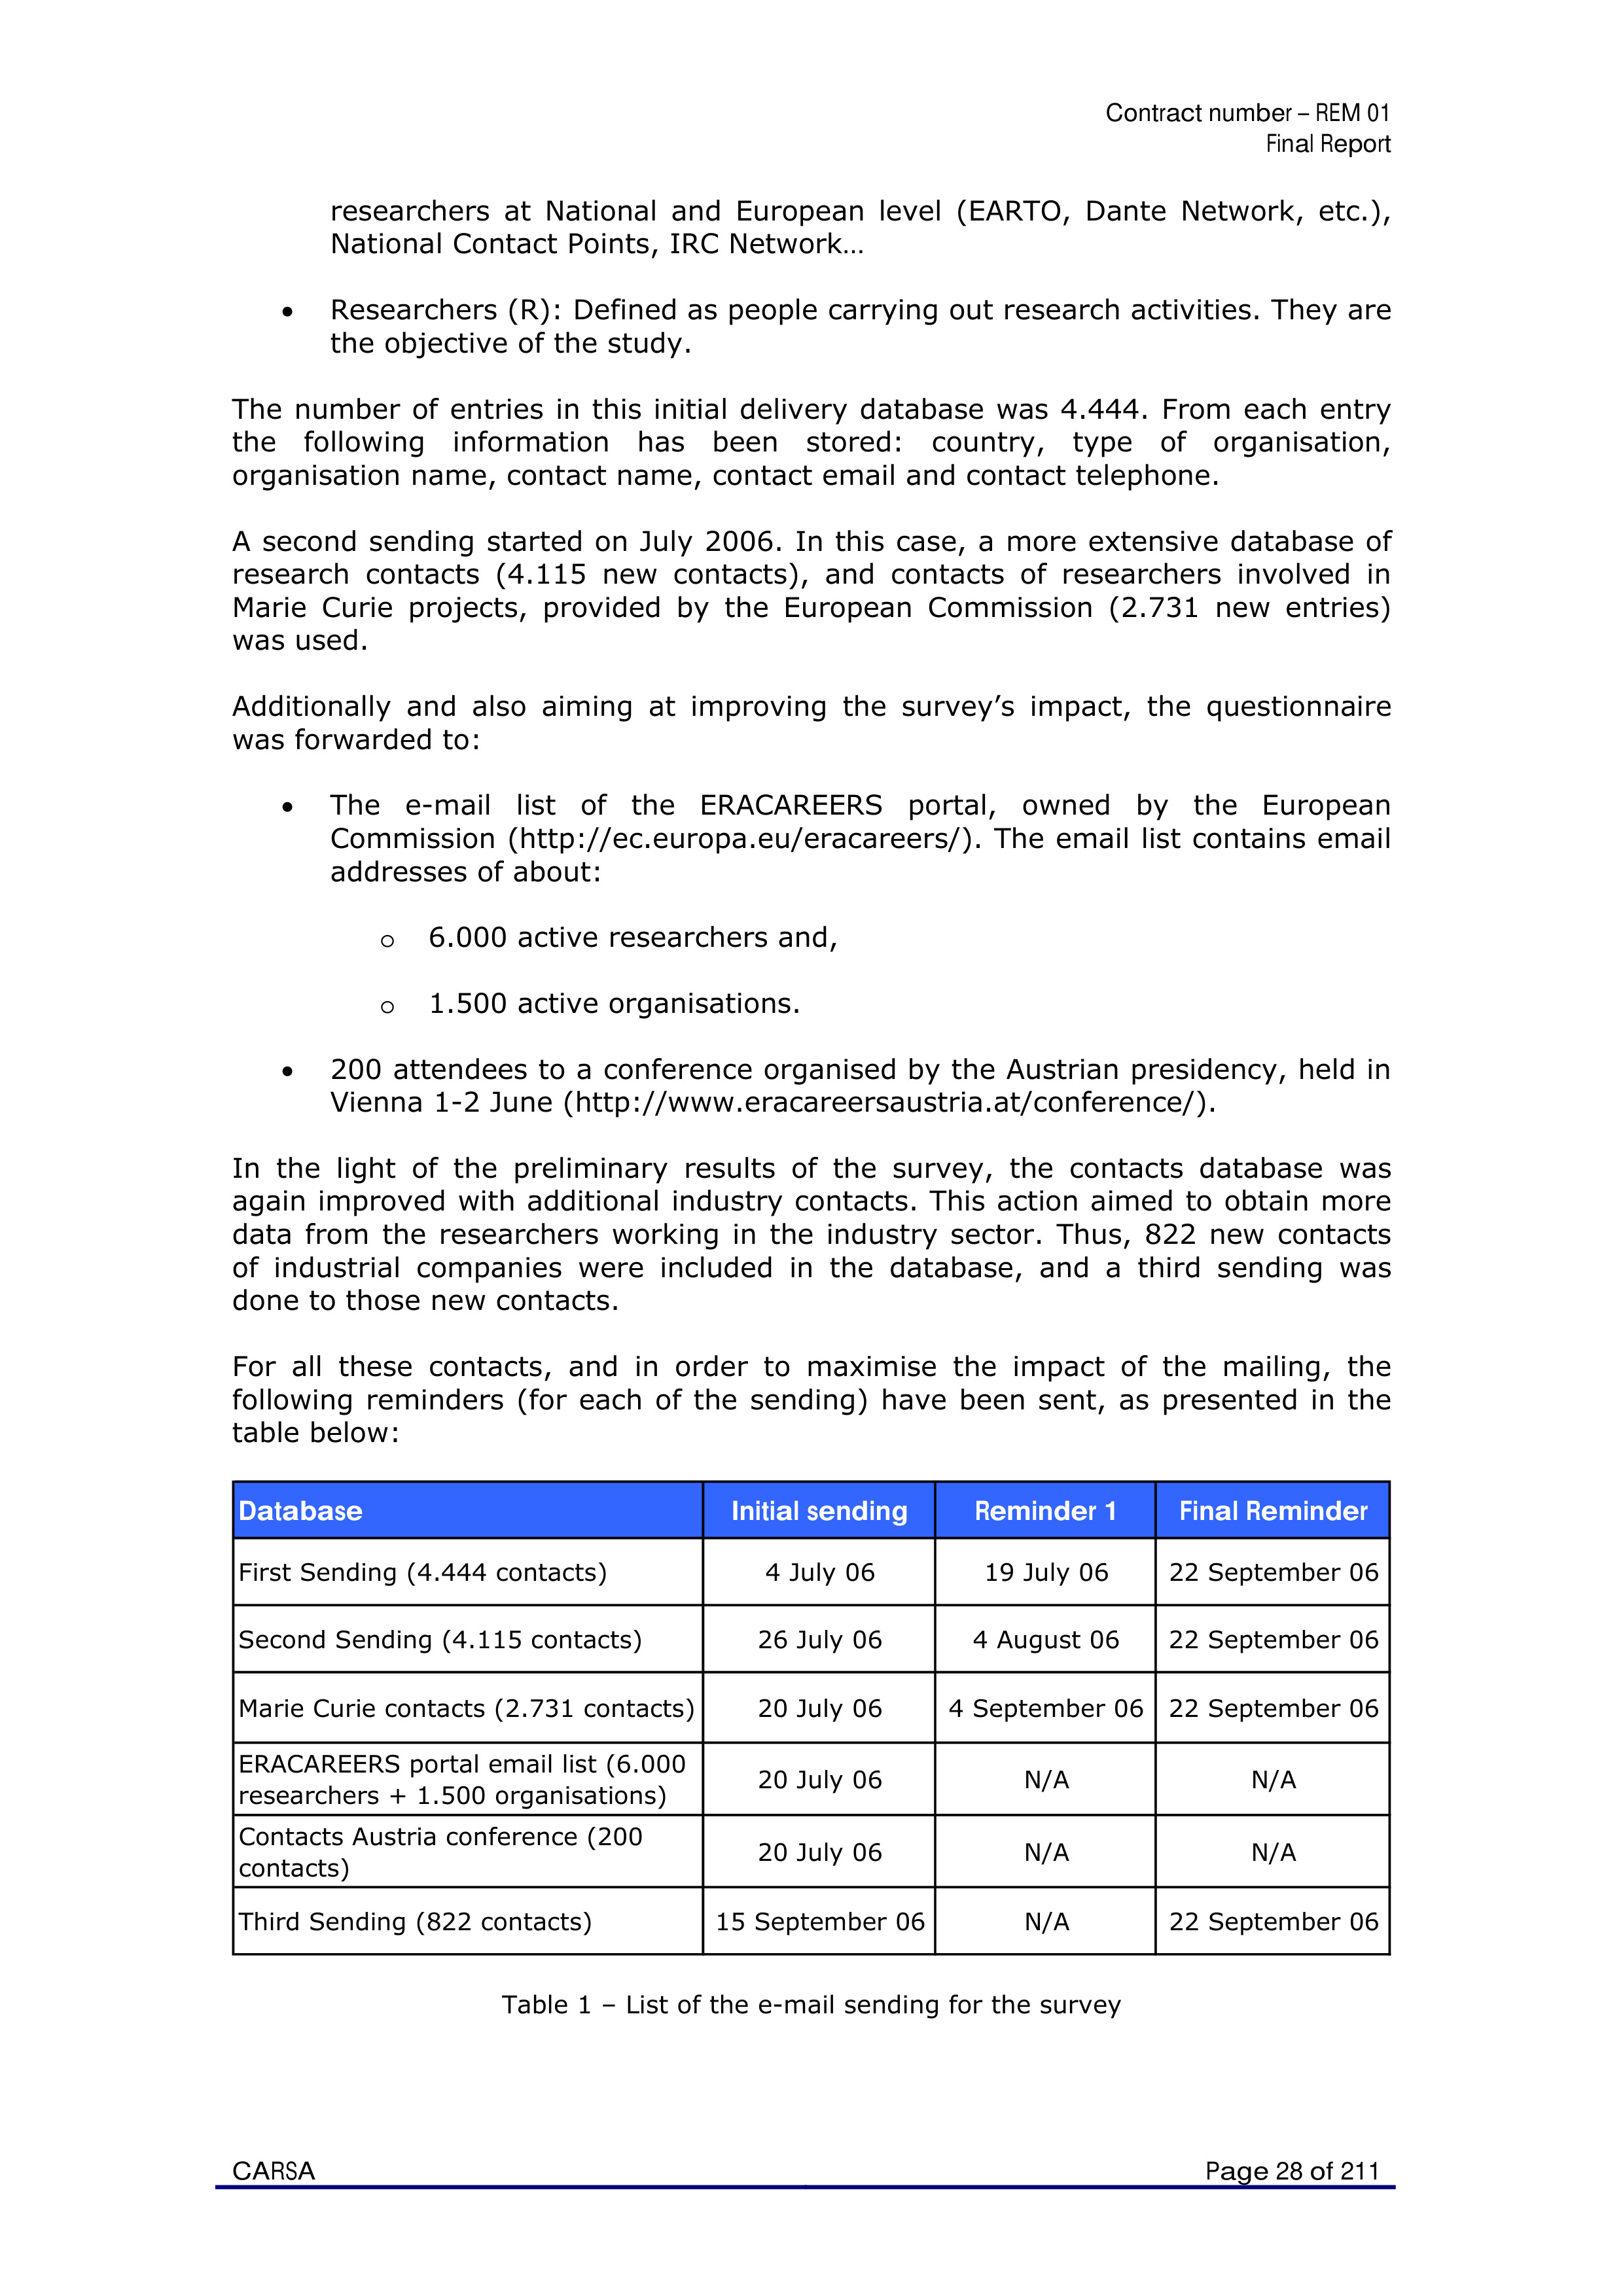table: (239, 1492, 1379, 1936)
